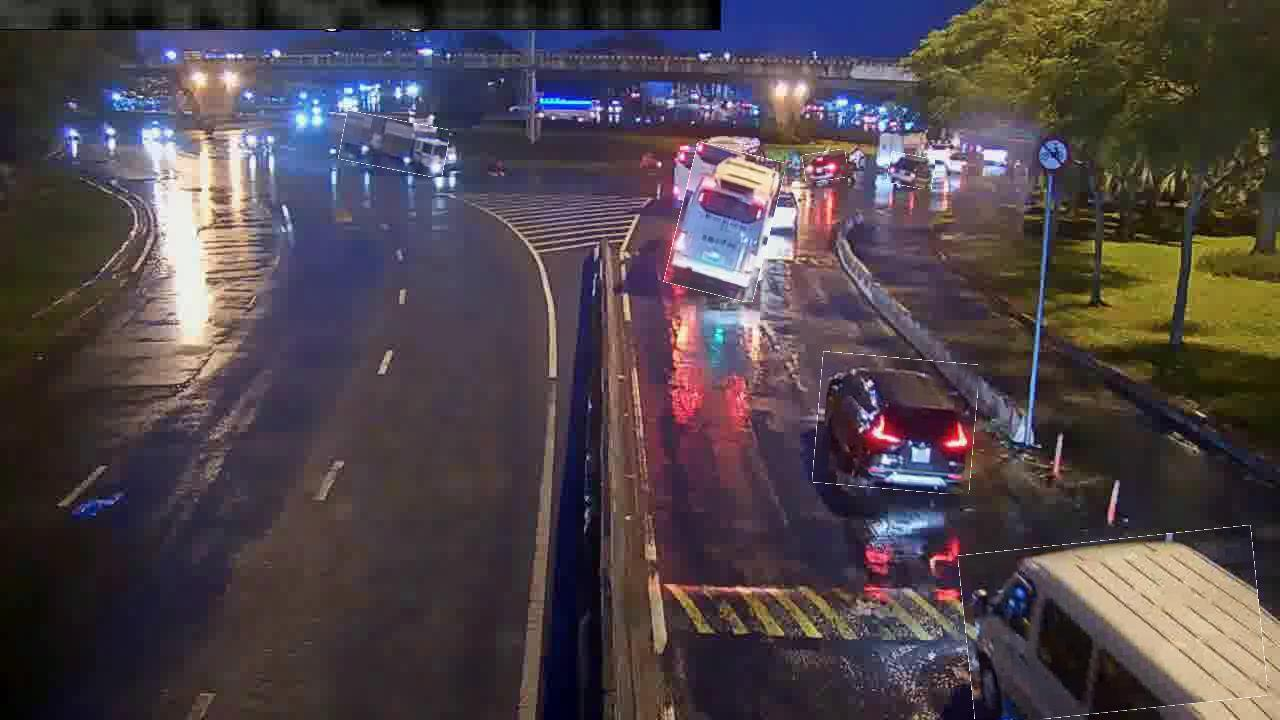14: (962, 533, 1264, 718), (671, 147, 778, 299)
8: (340, 115, 449, 174)
container: (815, 355, 977, 492), (888, 153, 935, 188), (803, 150, 848, 182)
